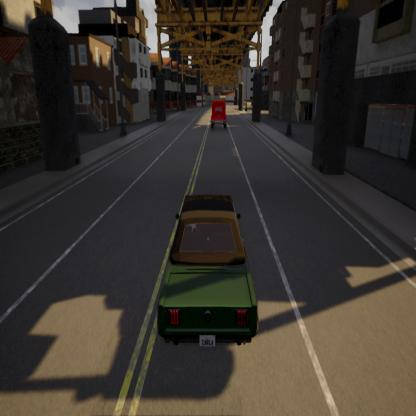Cars: (158, 192, 258, 350), (210, 98, 228, 131)
